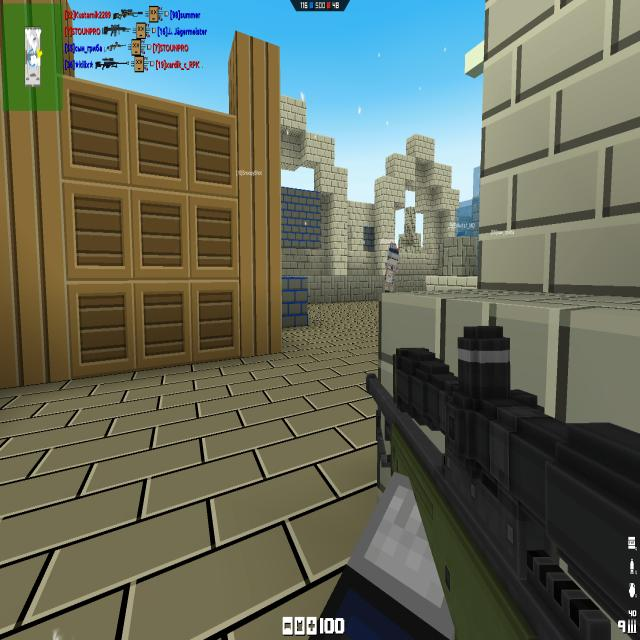player: (384, 242, 399, 293)
